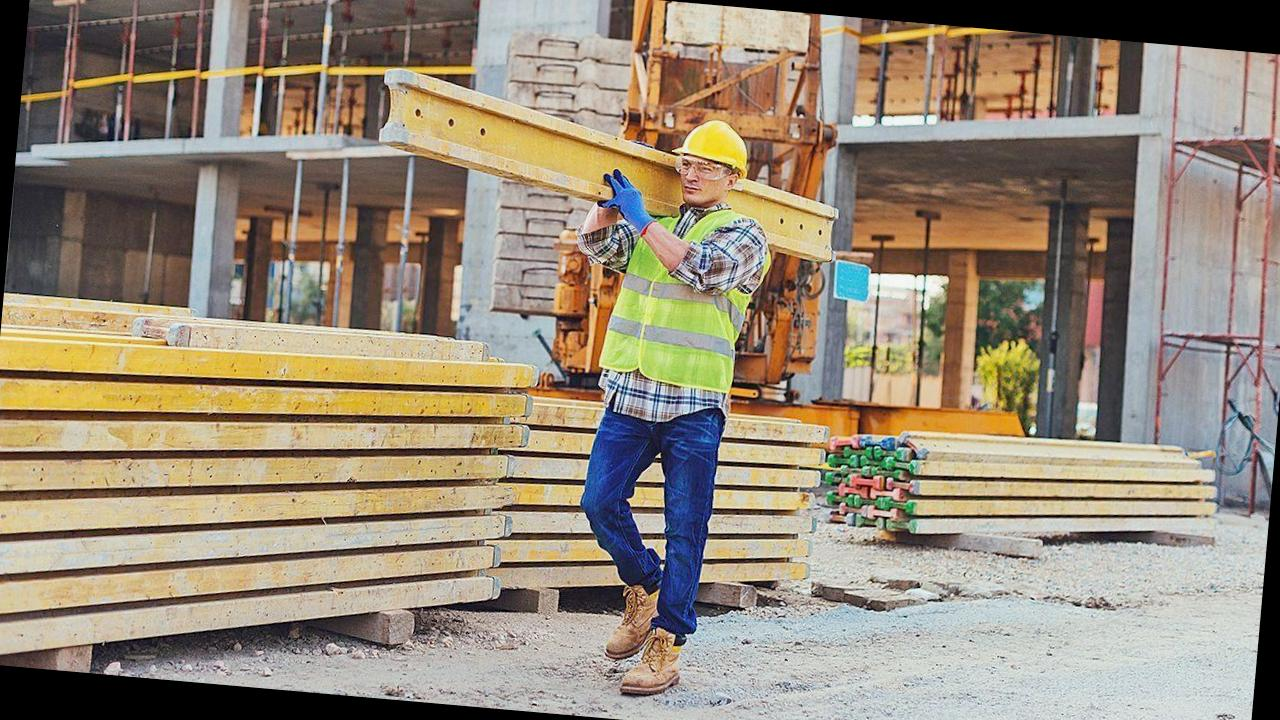helmet: (666, 120, 750, 180)
person: (558, 118, 824, 717)
